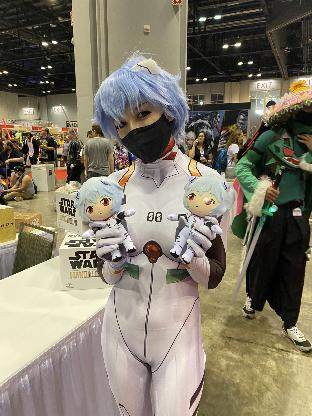rei-plush: (69, 171, 142, 270), (170, 171, 232, 265)
